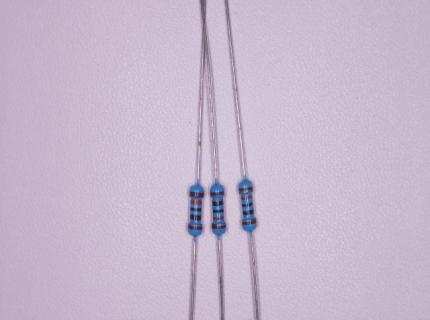Black band: (190, 215, 201, 221), (243, 209, 253, 215), (212, 201, 223, 206), (242, 202, 253, 207), (190, 208, 201, 212), (213, 209, 224, 212)
Brown band: (190, 191, 204, 198), (242, 219, 256, 225), (239, 187, 253, 192), (212, 224, 226, 229), (188, 226, 202, 230), (211, 192, 224, 196)
Orange band: (191, 200, 202, 205), (241, 195, 252, 200), (213, 216, 224, 220)
